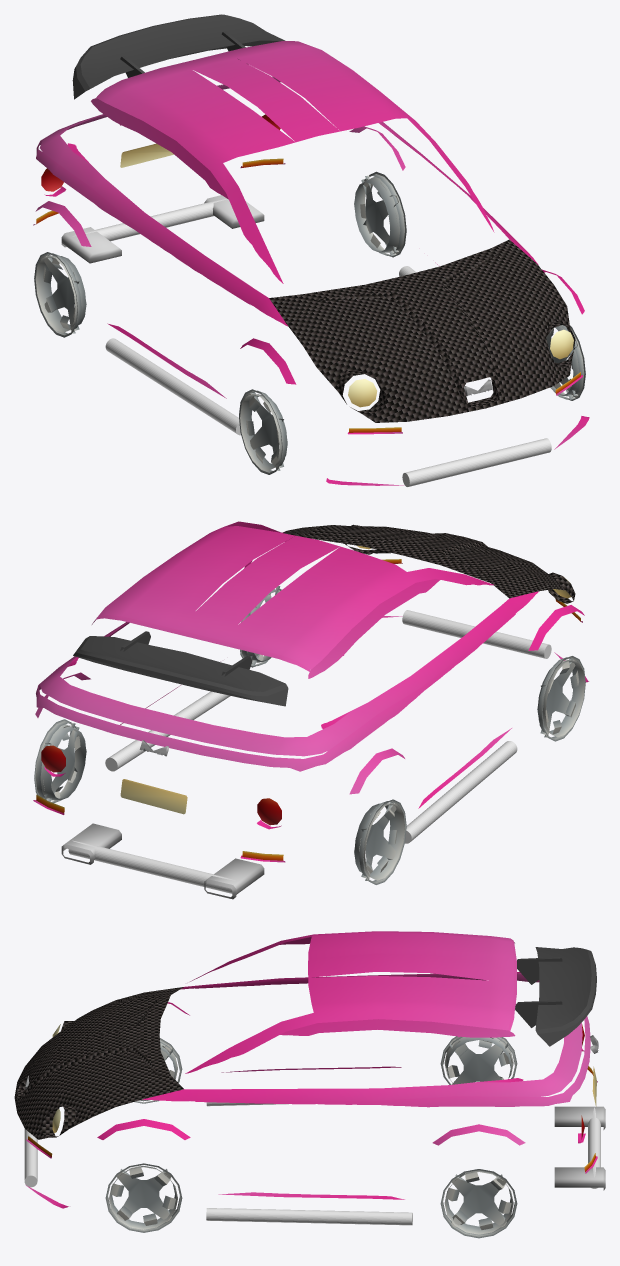
The model's file is Car_3.fbx.
The picture shows the model from 3 angles, top to bottom: view 1: azimuth 30°, elevation 25°; view 2: azimuth 150°, elevation 25°; view 3: azimuth 270°, elevation 25°; orthographic projection. The views are drawn at different scales.
Parts seen in each view (by area): view 1: Car_7A, CarbonPart.001, Spoiler.002, Neon.002, Wheel_7A_R.R, Wheel_7A_R.R.001, Wheel_7A_R.L, Wheel_7A_R.L.001, Wheel_7A_F.R.001, Wheel_7A_F.R, Wheel_7A_F.L.001; view 2: Car_7A, CarbonPart.001, Neon.002, Spoiler.002, Wheel_7A_R.R, Wheel_7A_R.R.001, Wheel_7A_F.R, Wheel_7A_F.R.001, Wheel_7A_R.L, Wheel_7A_R.L.001; view 3: Car_7A, CarbonPart.001, Spoiler.002, Neon.002, Wheel_7A_R.L.001, Wheel_7A_F.L.001, Wheel_7A_R.R.001, Wheel_7A_F.L, Wheel_7A_R.L, Wheel_7A_R.R.
Part boxes in pixels (box(x1,y1,x2,y2)): Car_7A: box(33, 41, 589, 485); CarbonPart.001: box(269, 239, 575, 422); Spoiler.002: box(72, 14, 285, 99); Neon.002: box(72, 198, 551, 486); Wheel_7A_R.R: box(36, 255, 86, 332); Wheel_7A_R.R.001: box(34, 252, 81, 337); Wheel_7A_R.L: box(354, 176, 400, 252); Wheel_7A_R.L.001: box(361, 171, 406, 257); Wheel_7A_F.R.001: box(239, 389, 286, 474); Wheel_7A_F.R: box(240, 394, 287, 471); Wheel_7A_F.L.001: box(546, 325, 585, 400); Car_7A: box(33, 521, 588, 899); CarbonPart.001: box(283, 524, 575, 603); Neon.002: box(68, 610, 551, 893); Spoiler.002: box(73, 631, 288, 706); Wheel_7A_R.R: box(354, 803, 404, 880); Wheel_7A_R.R.001: box(359, 799, 406, 884); Wheel_7A_F.R: box(537, 660, 584, 737); Wheel_7A_F.R.001: box(538, 656, 585, 741); Wheel_7A_R.L: box(40, 724, 86, 800); Wheel_7A_R.L.001: box(34, 719, 79, 803); Car_7A: box(25, 931, 605, 1208); CarbonPart.001: box(14, 987, 183, 1139); Spoiler.002: box(515, 947, 596, 1046); Neon.002: box(24, 1102, 600, 1225); Wheel_7A_R.L.001: box(440, 1169, 517, 1238); Wheel_7A_F.L.001: box(105, 1163, 182, 1232); Wheel_7A_R.R.001: box(440, 1036, 517, 1084); Wheel_7A_F.L: box(109, 1166, 177, 1229); Wheel_7A_R.L: box(444, 1170, 513, 1234); Wheel_7A_R.R: box(444, 1037, 513, 1084).
Size of the model in its own units: 2.63 by 1.89 by 4.59.
Materials: 3 (2 with a texture image).
